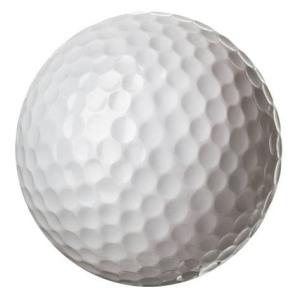Golf: (10, 9, 284, 290)
